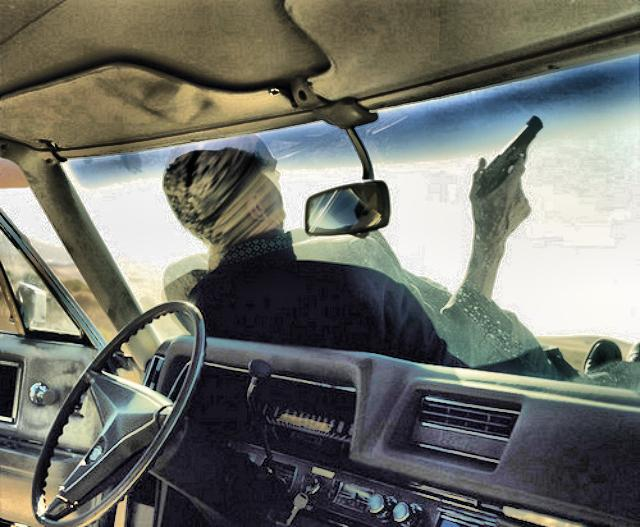pistol: (468, 112, 544, 224)
